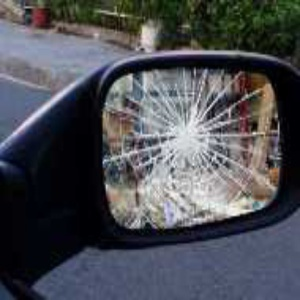bumper_scratch: (162, 155, 214, 211)
